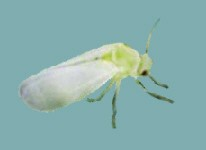whitefly: (17, 15, 174, 130)
